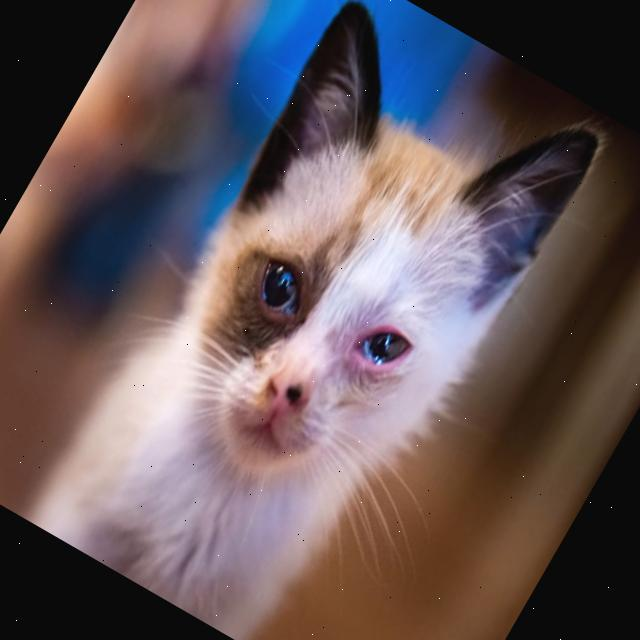cat-eye: (338, 295, 430, 392)
cat-eye-normal: (230, 236, 331, 340)
